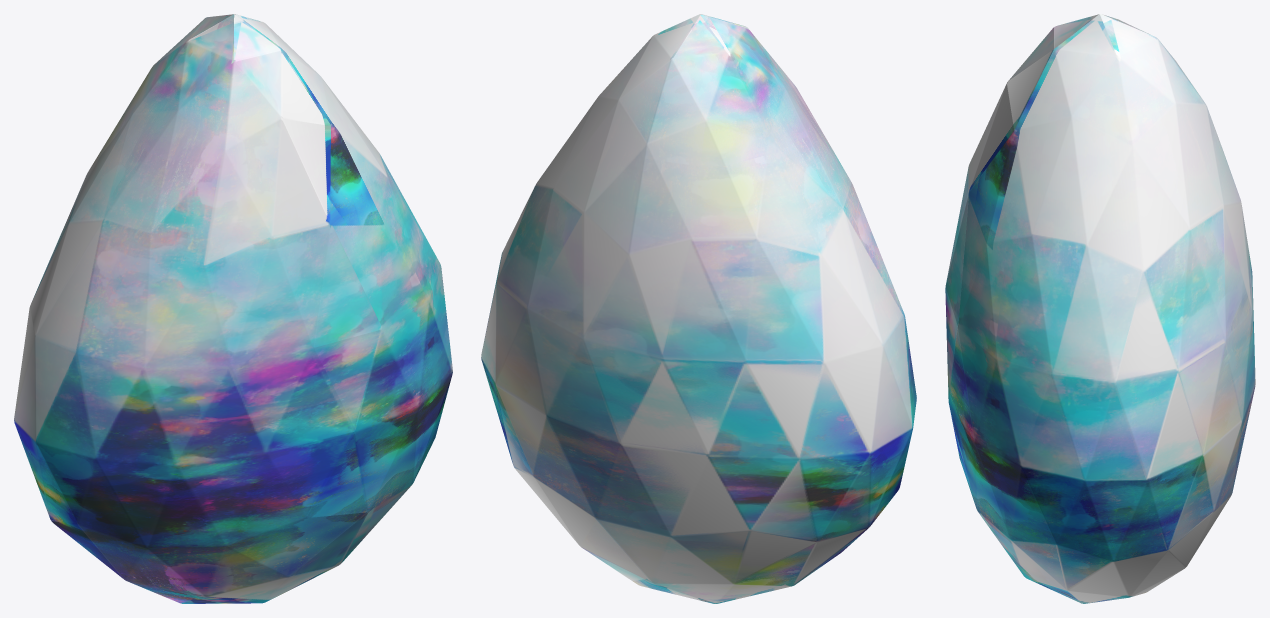
Rendered from Jewelry Type 3.glb.
3 renders of one model, left to right at view 1: azimuth 30°, elevation 25°; view 2: azimuth 150°, elevation 25°; view 3: azimuth 270°, elevation 25°, orthographic.
Parts seen in each view (by area): view 1: Jewelry007_M_Jewelry001_0; view 2: Jewelry007_M_Jewelry001_0; view 3: Jewelry007_M_Jewelry001_0.
Boxes of the visible parts, bbox=[...] form: Jewelry007_M_Jewelry001_0: bbox=[14, 14, 452, 603]; Jewelry007_M_Jewelry001_0: bbox=[481, 14, 916, 603]; Jewelry007_M_Jewelry001_0: bbox=[945, 14, 1255, 603].
Size of the model in its own units: 0.9426 by 1.27 by 0.6224.
Materials: 1 (1 with a texture image).
